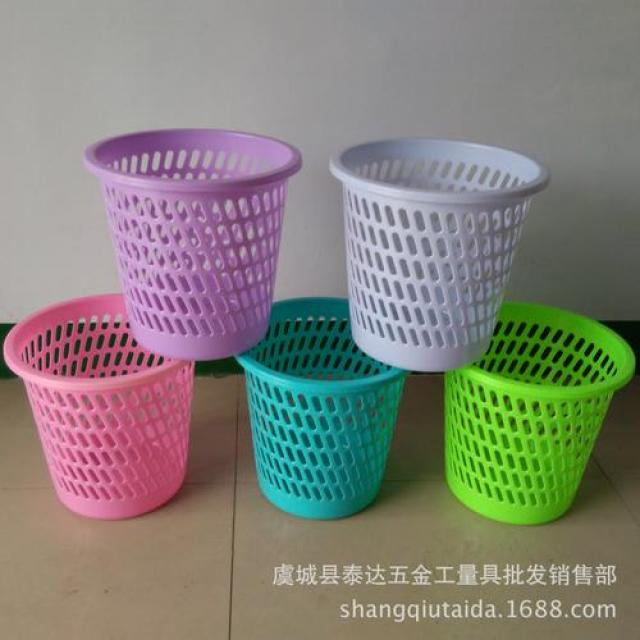Dustbin: (326, 132, 554, 370), (78, 125, 306, 358), (439, 294, 640, 528), (2, 290, 195, 522), (230, 291, 410, 522)
